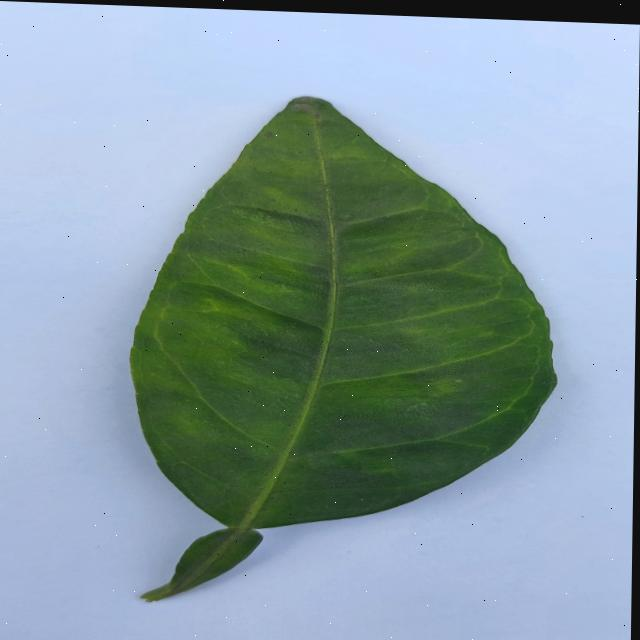greening: (131, 96, 556, 601)
